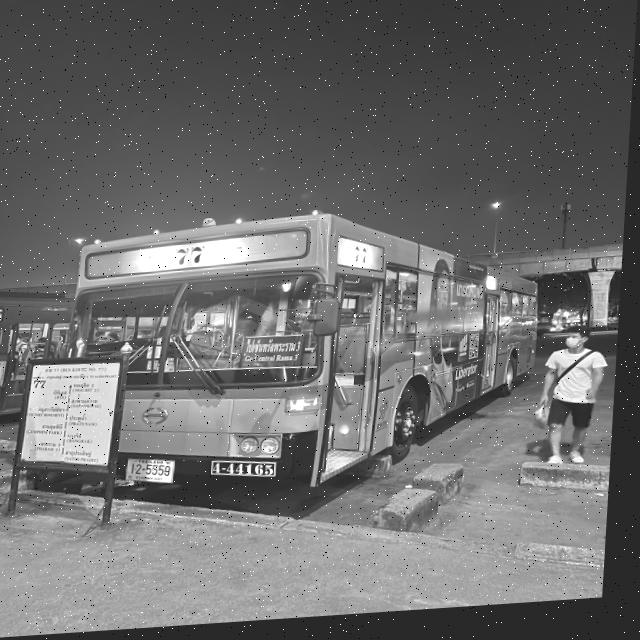BMTA-bus: (65, 206, 551, 508)
Bus-Line-Number: (158, 245, 226, 278)
Destination-Sign-Normal: (246, 339, 311, 372)
